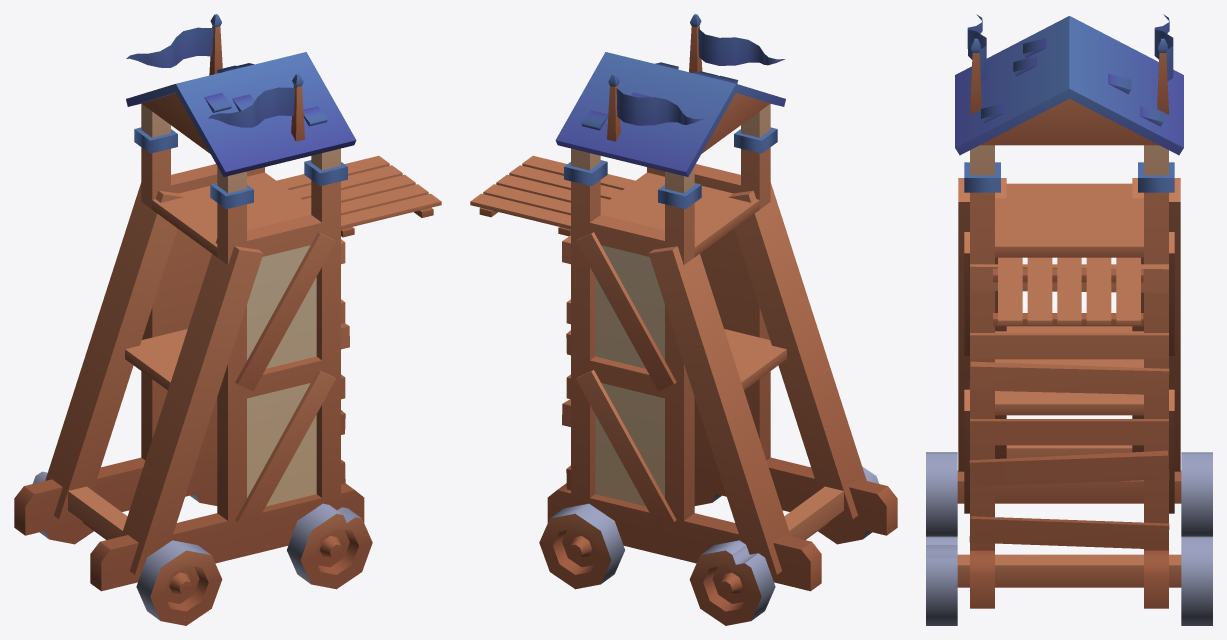
Rendered from siege-tower.glb.
The picture shows the model from 3 angles, left to right: view 1: azimuth 30°, elevation 25°; view 2: azimuth 150°, elevation 25°; view 3: azimuth 270°, elevation 25°; orthographic projection. The views are drawn at different scales.
Visible parts, largest first — view 1: siege-tower, wheel (×3); view 2: siege-tower, wheel (×3); view 3: siege-tower, wheel (×4).
Part boxes in pixels (x1=…): siege-tower: x1=14, y1=14, x2=441, y2=591; wheel (×3): x1=32, y1=471, x2=372, y2=625; siege-tower: x1=470, y1=14, x2=897, y2=591; wheel (×3): x1=539, y1=466, x2=879, y2=625; siege-tower: x1=955, y1=14, x2=1183, y2=608; wheel (×4): x1=926, y1=452, x2=1212, y2=625.
Size of the model in its own units: 1.97 by 2.68 by 1.21.
